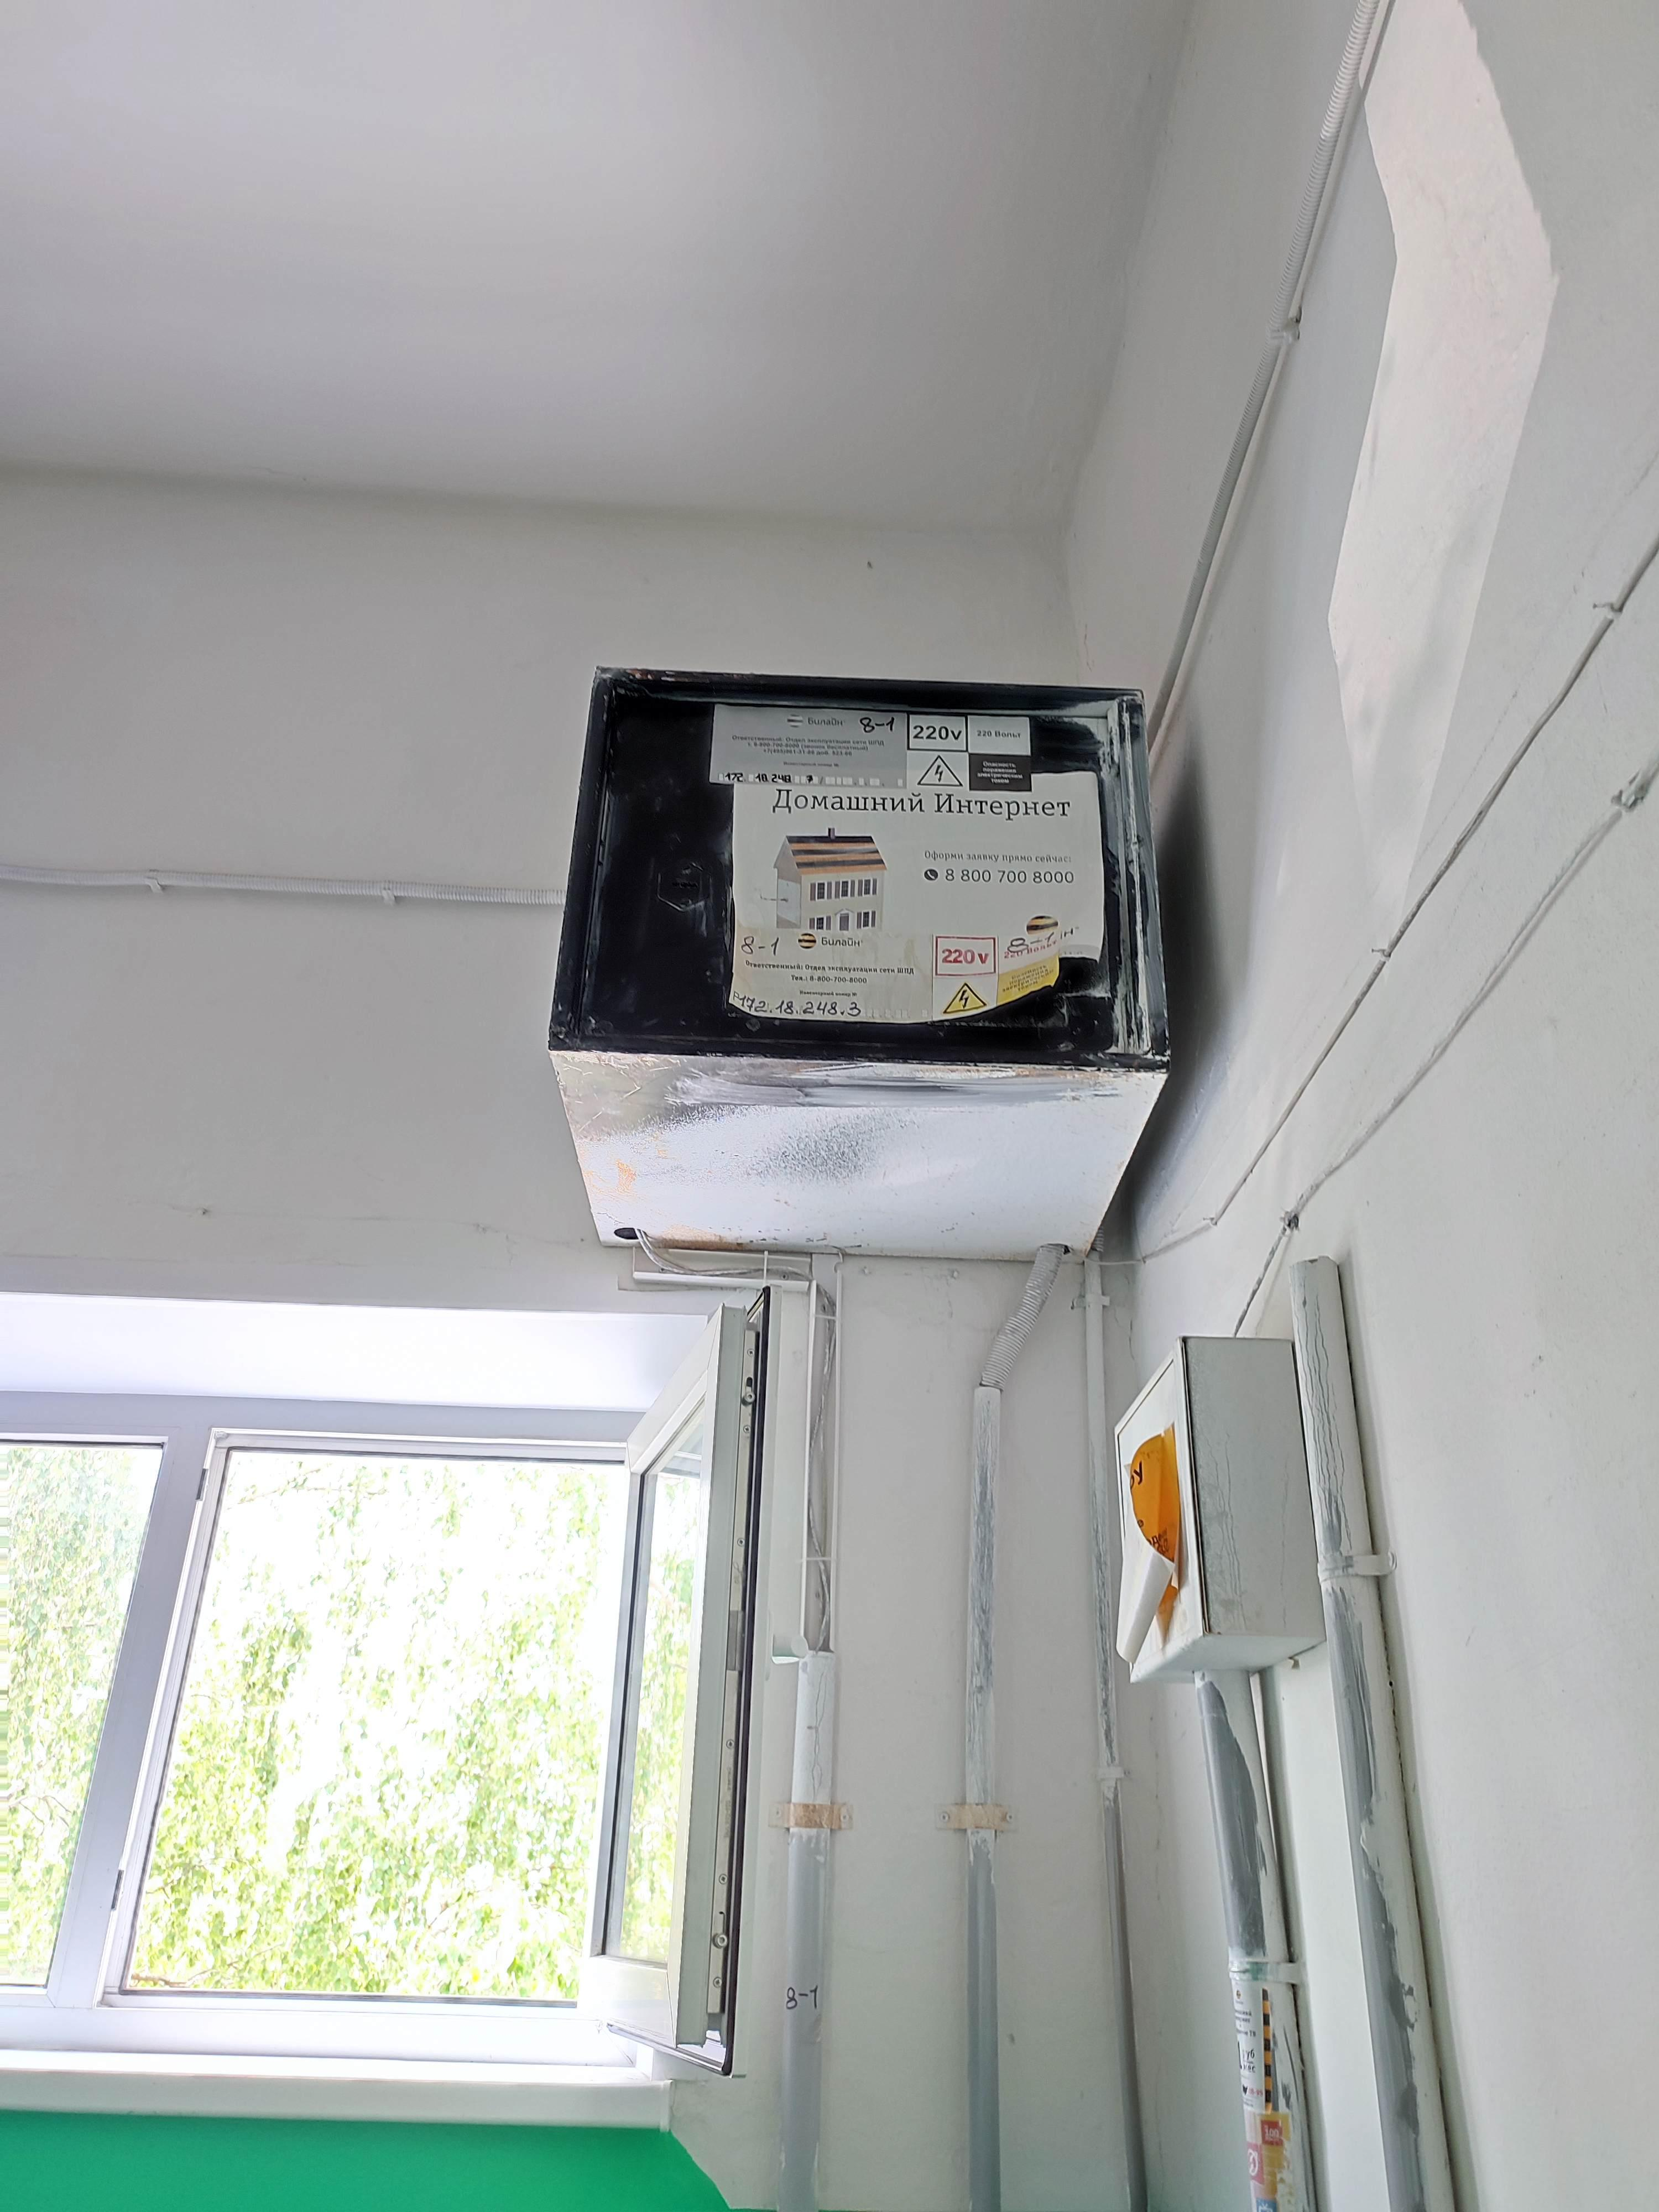shta-9m: (533, 660, 1180, 1263)
